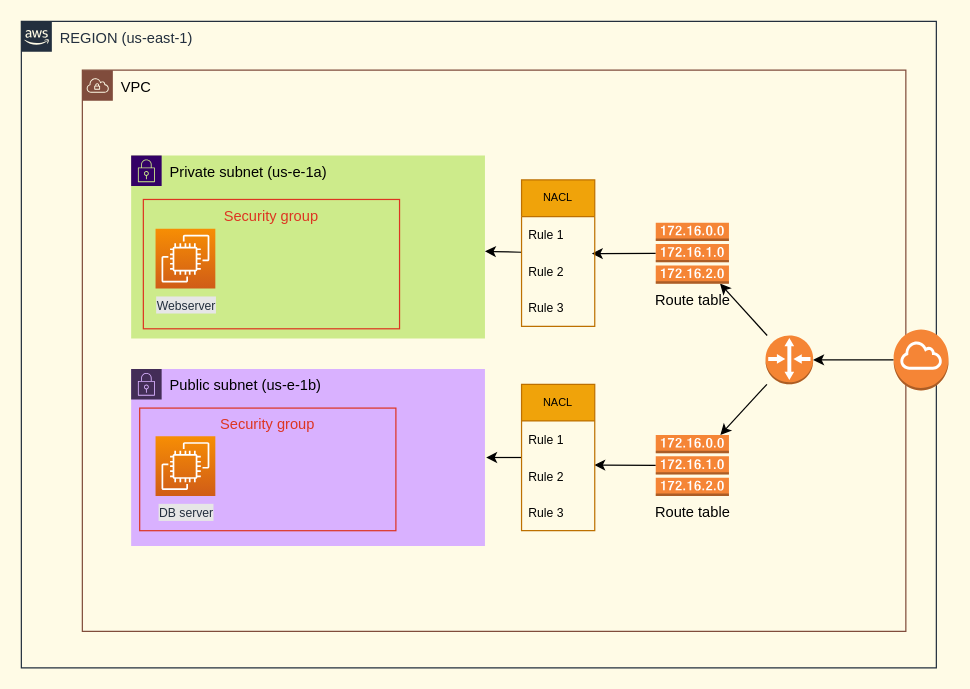
Image size: 970x689. Some labels were removed from this diagram. Here are the shapes that lost their labels. From the top down, the centre of each, then its label:
At [788,359]: "Router".
At [920,359]: "IGW".
